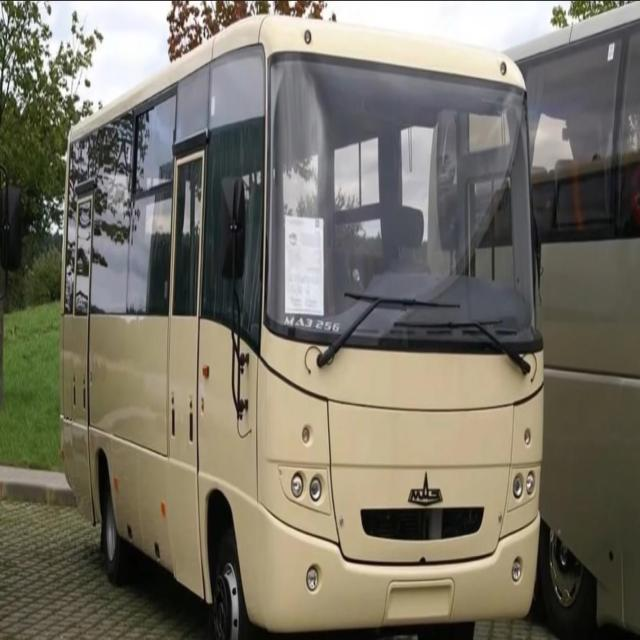bus: (58, 1, 547, 638), (428, 1, 640, 638)
